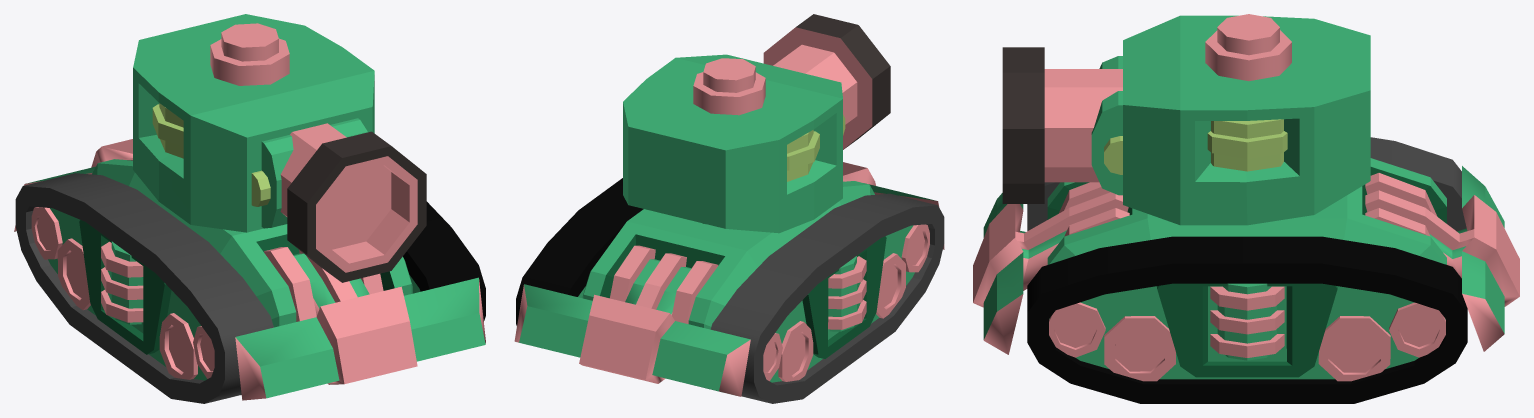
File: tank.fbx
The picture shows the model from 3 angles, left to right: view 1: azimuth 30°, elevation 25°; view 2: azimuth 150°, elevation 25°; view 3: azimuth 270°, elevation 25°; orthographic projection. The views are drawn at different scales.
Parts seen in each view (by area): view 1: hull.001, turret01.001, treads.001, barrel.001; view 2: hull.001, turret01.001, treads.001, barrel.001; view 3: hull.001, turret01.001, treads.001, barrel.001.
Part boxes in pixels (box(x1,y1,x2,y2)): hull.001: box(14, 139, 485, 400); turret01.001: box(133, 14, 374, 232); treads.001: box(15, 173, 485, 403); barrel.001: box(280, 123, 426, 282); hull.001: box(514, 162, 944, 396); turret01.001: box(623, 54, 845, 233); treads.001: box(516, 178, 944, 403); barrel.001: box(763, 14, 890, 149); hull.001: box(973, 158, 1519, 381); turret01.001: box(1091, 14, 1370, 225); treads.001: box(1027, 137, 1467, 403); barrel.001: box(1002, 47, 1122, 203).
Size of the model in its own units: 131 by 127 by 204.
